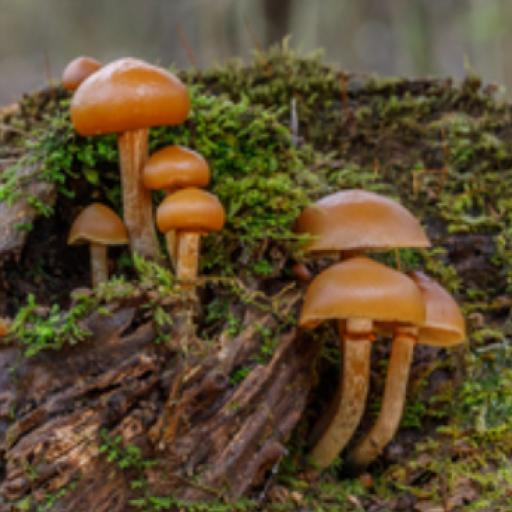mushroom: (283, 178, 469, 477), (49, 40, 232, 287)
